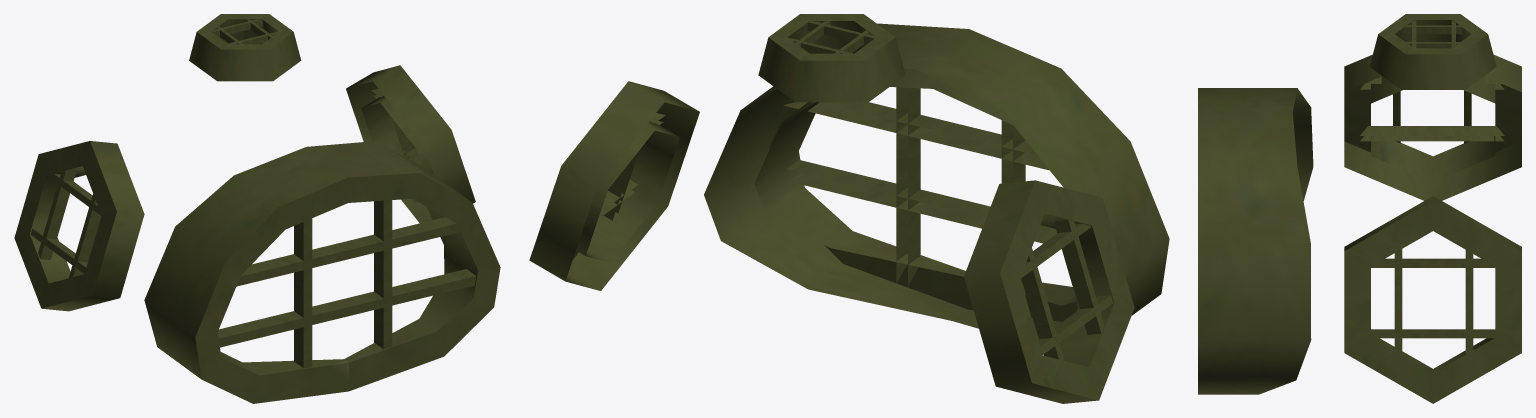
File: EVE_Diver.obj
3 renders of one model, left to right at view 1: azimuth 30°, elevation 25°; view 2: azimuth 150°, elevation 25°; view 3: azimuth 270°, elevation 25°, orthographic. The views are drawn at different scales.
Parts seen in each view (by area): view 1: EVE_Diver; view 2: EVE_Diver; view 3: EVE_Diver.
Part boxes in pixels (x1=…): EVE_Diver: x1=14, y1=14, x2=500, y2=403; EVE_Diver: x1=529, y1=14, x2=1169, y2=403; EVE_Diver: x1=1198, y1=14, x2=1521, y2=403.
Bounding box in the file's own units: 6.26 × 4.17 × 3.81.
Materials: 1 (1 with a texture image).
